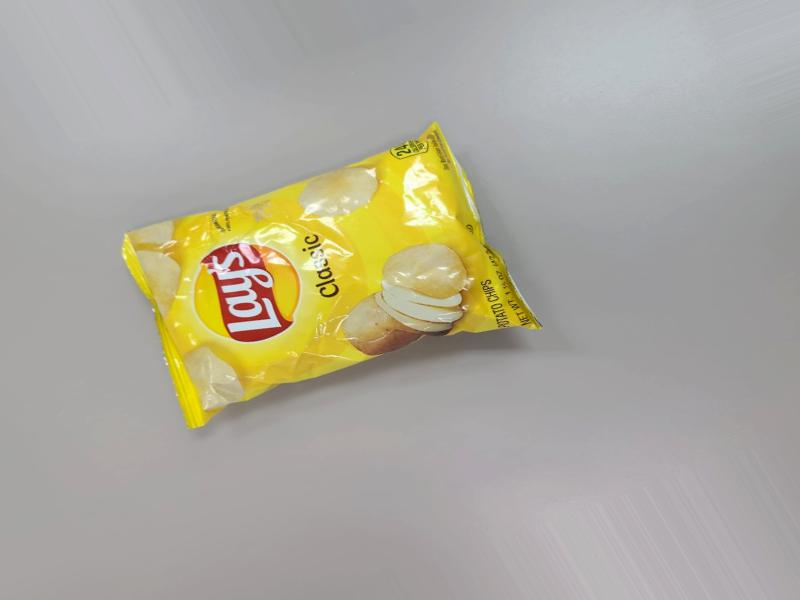lays: (127, 135, 538, 438)
